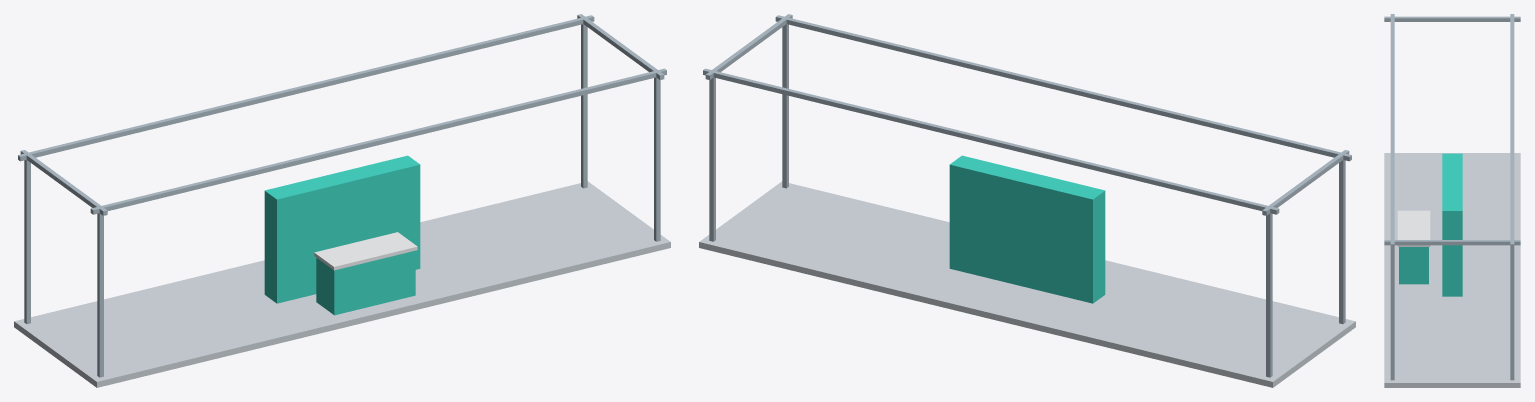
3 views of the same model, side by side, from view 1: azimuth 30°, elevation 25°; view 2: azimuth 150°, elevation 25°; view 3: azimuth 270°, elevation 25° (orthographic). The views are drawn at different scales.
Parts seen in each view (by area): view 1: Exhibition Booth Concept; view 2: Exhibition Booth Concept; view 3: Exhibition Booth Concept.
Part boxes in pixels (bbox=[...]): Exhibition Booth Concept: bbox=[14, 14, 670, 387]; Exhibition Booth Concept: bbox=[699, 14, 1355, 387]; Exhibition Booth Concept: bbox=[1384, 14, 1520, 387].
Size of the model in its own units: 12 by 3.49 by 3.
